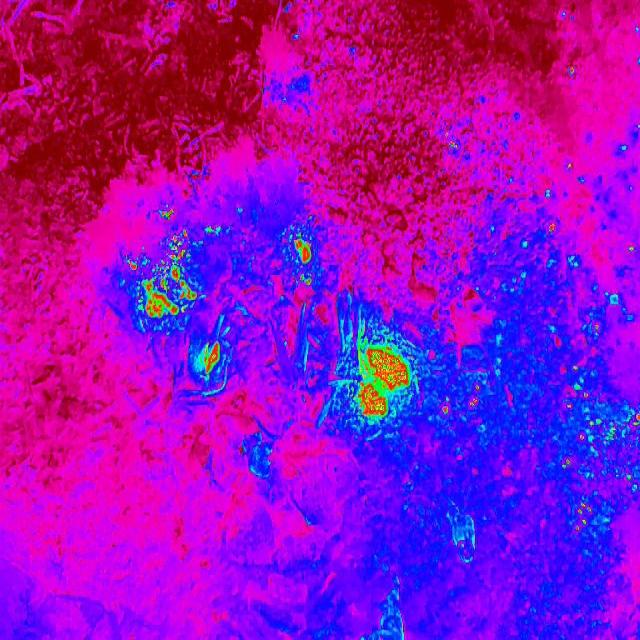fire: (543, 220, 640, 542), (343, 328, 415, 430), (126, 230, 199, 326), (286, 228, 320, 287), (440, 376, 482, 422), (195, 334, 225, 388), (156, 202, 180, 224), (441, 134, 462, 154)
